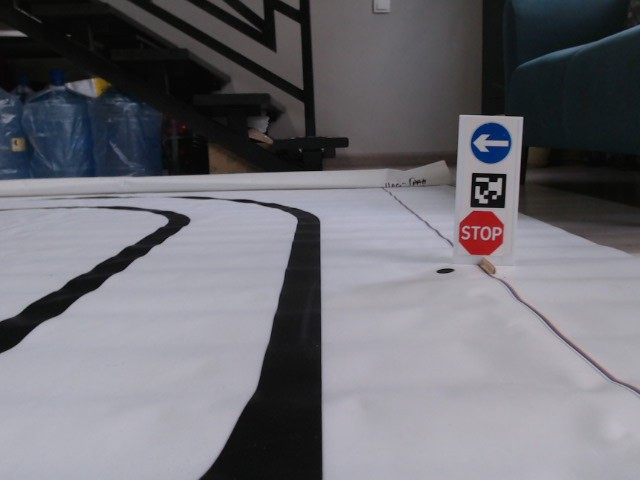Stop: (457, 209, 506, 257)
